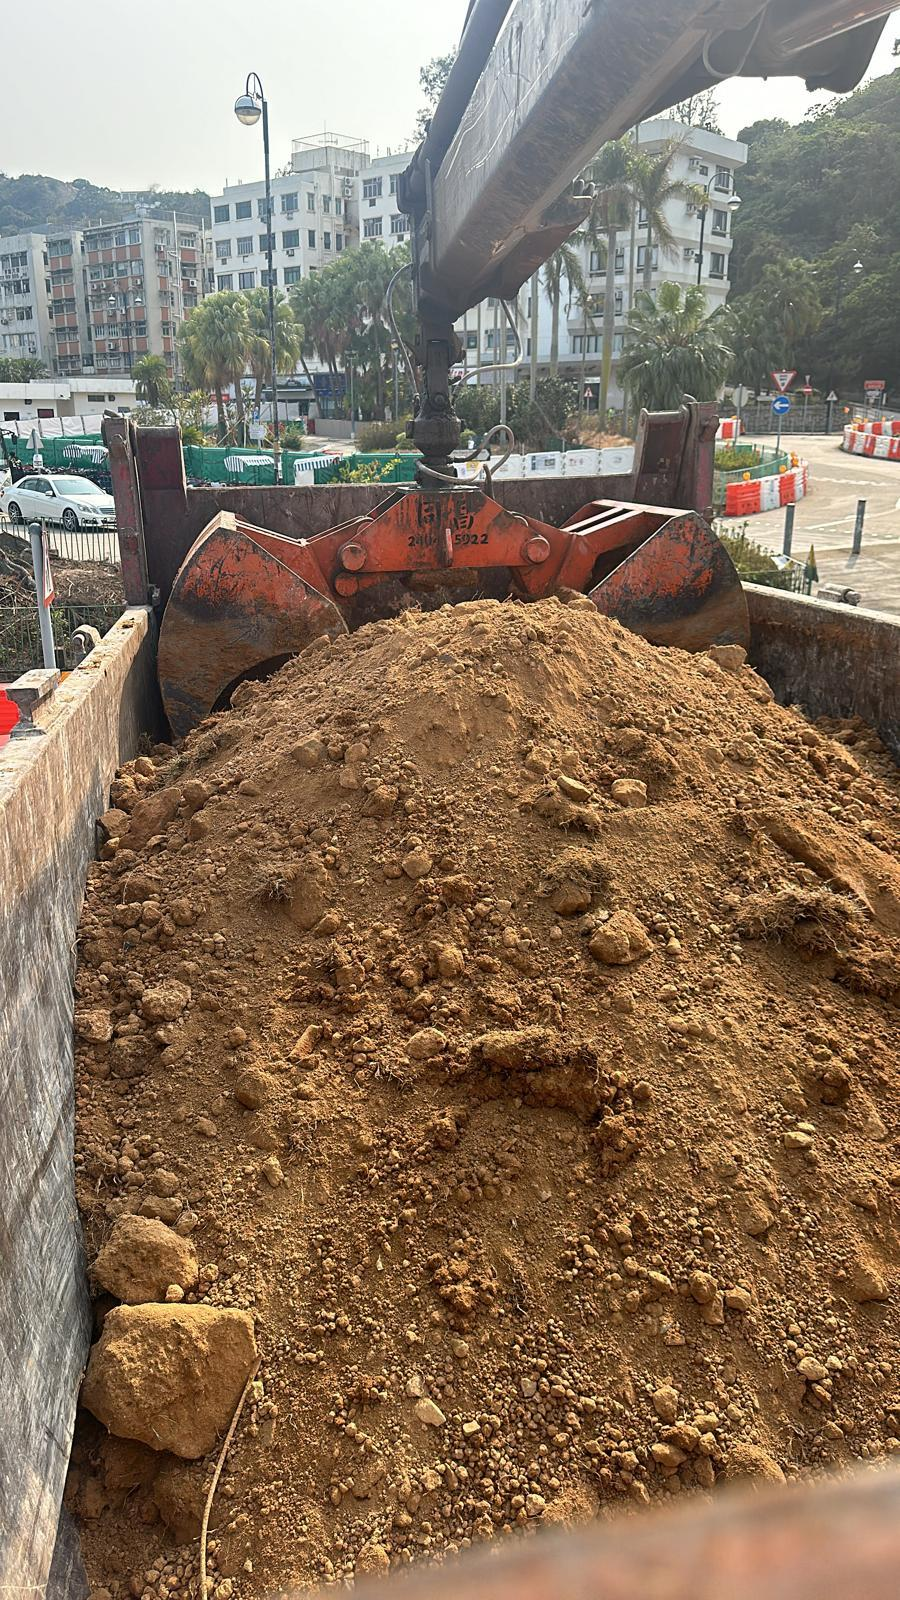dry: (65, 605, 900, 1598)
